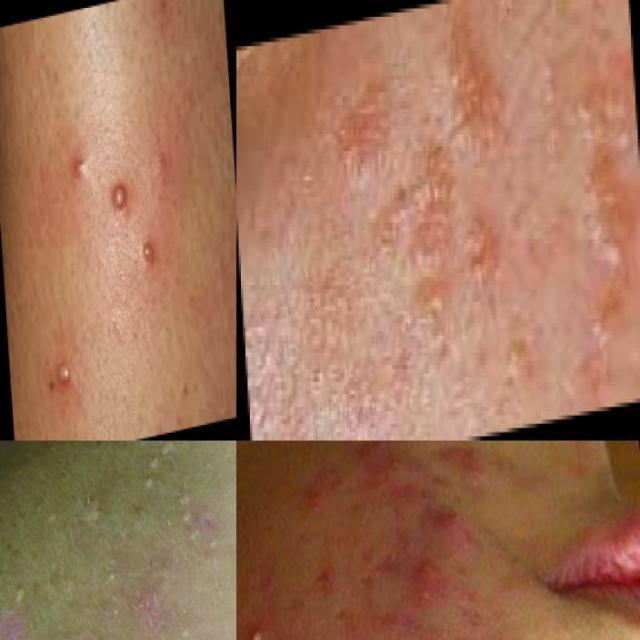Acne: (316, 33, 640, 382), (238, 441, 515, 640), (27, 446, 226, 620), (38, 146, 158, 384)
